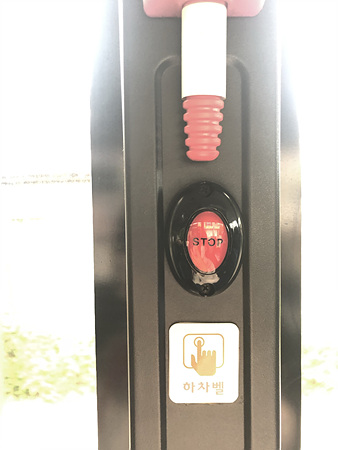bell: (165, 182, 245, 294)
